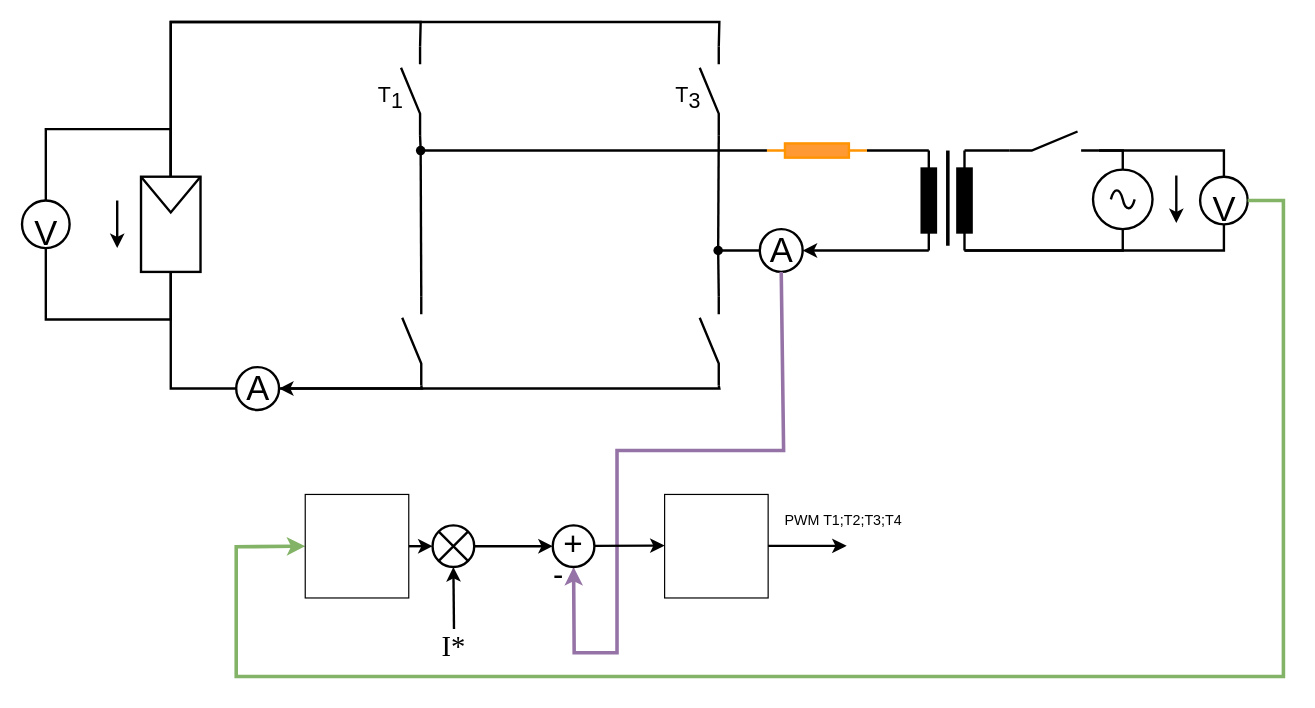
This 1315x708 diagram has some shape labels left out. The shapes that lost their labels are listed below. From the top down, each one's centre as x and y in pixels, then its label:
the point at 411,340: T 2
the point at 708,340: T 4
the point at 356,545: SOGI PLL
the point at 715,545: PR Controll
